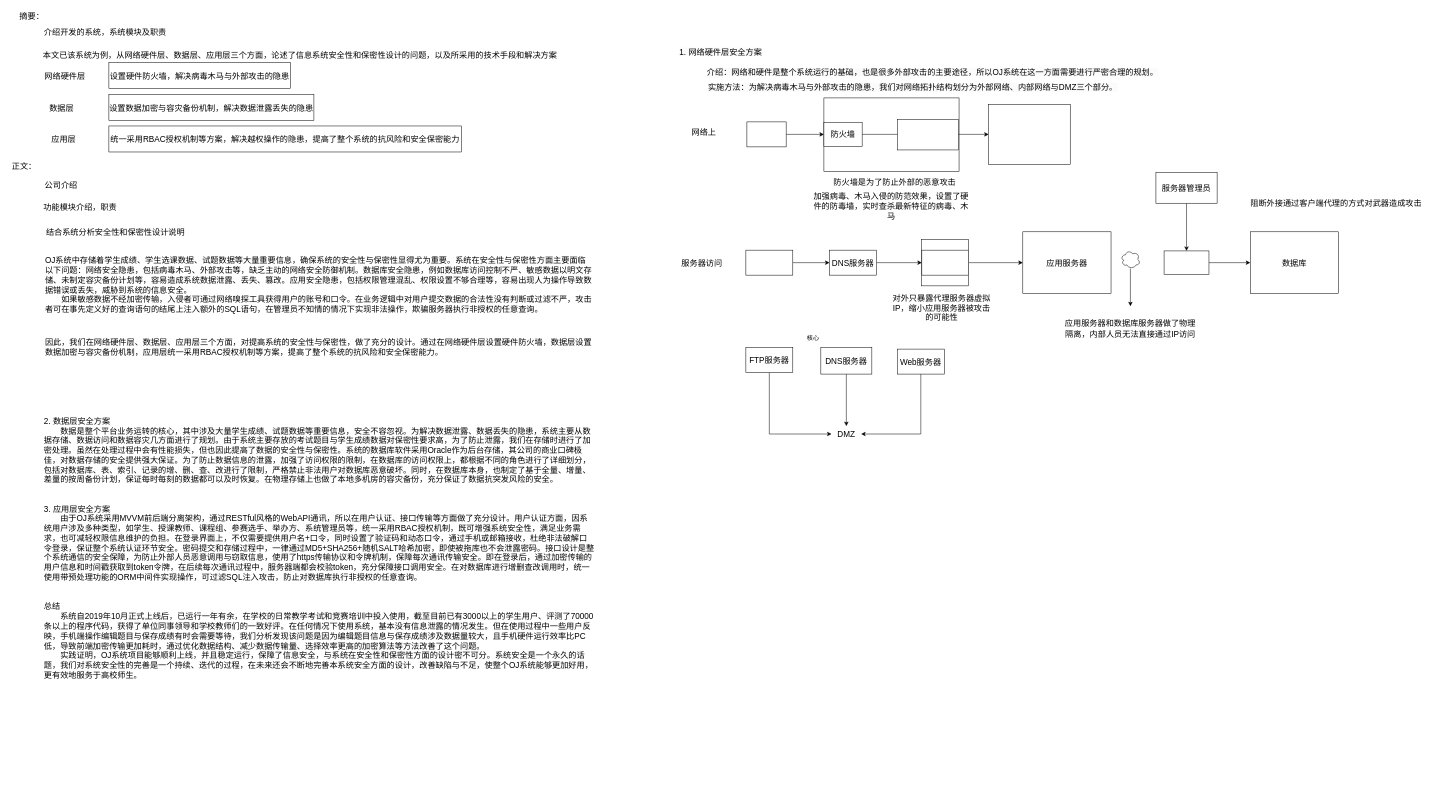
This 1435x806 diagram has some shape labels left out. Each missing label, with the centre of its shape:
内部网络: the point at 1029,134
反向代理服务器: the point at 945,262
堡垒机: the point at 1186,262
外部网络: the point at 766,134
校外访问者: the point at 769,262
硬件防毒墙: the point at 928,134
